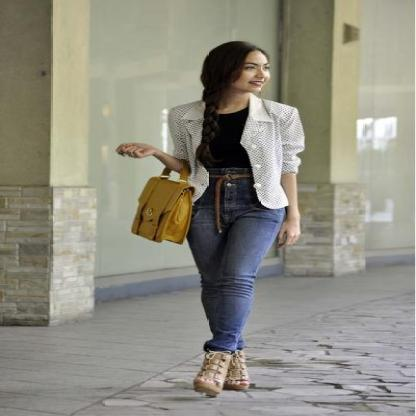bag: (131, 162, 195, 240)
jacket: (168, 93, 304, 214)
pants: (187, 167, 291, 356)
shirt: (217, 108, 253, 171)
shoe: (189, 350, 261, 397)
